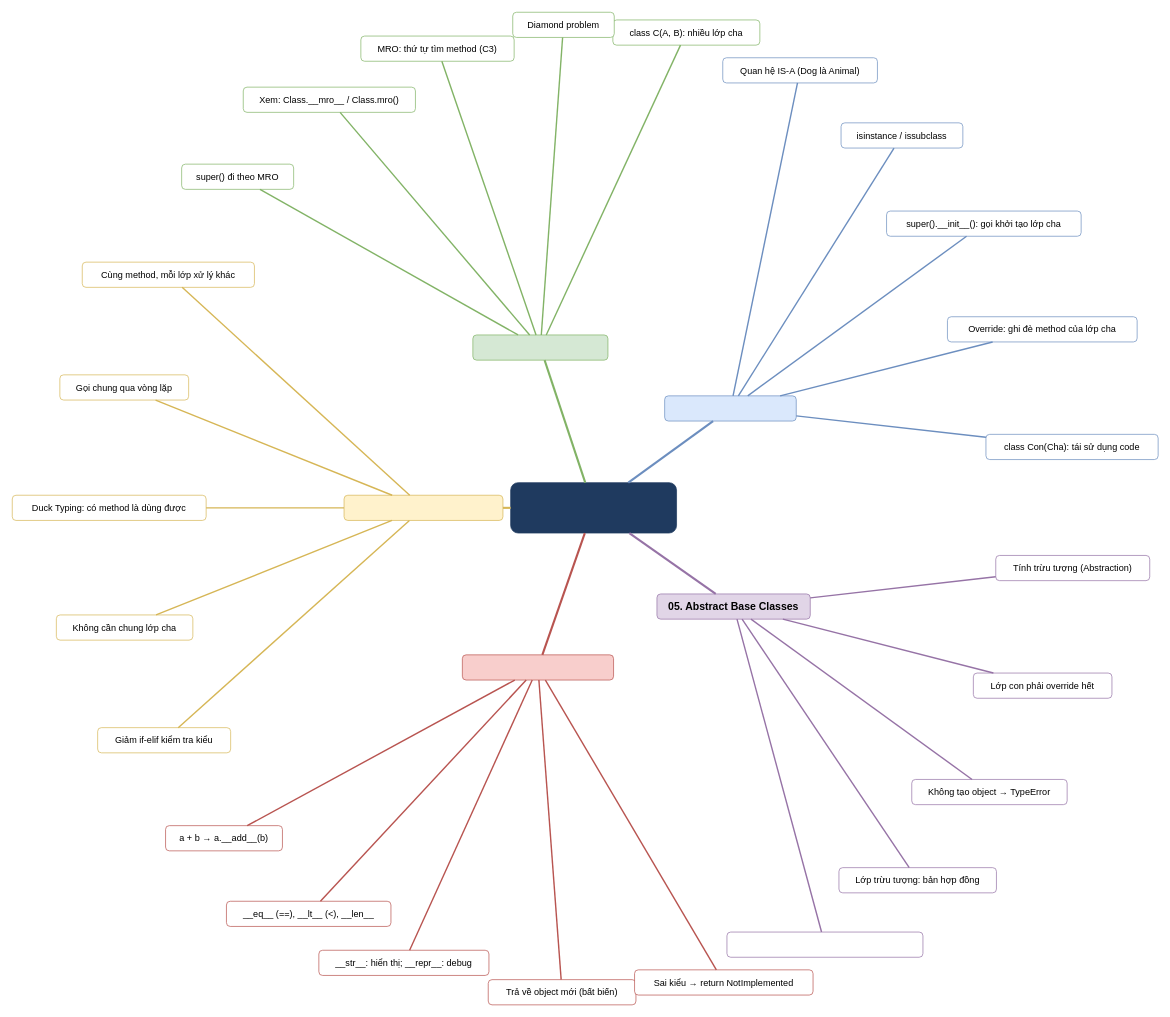
The diagram is 1170 pixels wide and 1017 high, and some of its shapes have lost their labels. Here are the shapes that lost their labels. From the top down, the box of each, then its label:
(472, 334, 608, 360): 02. Đa kế thừa & MRO
(664, 395, 796, 421): 01. Kế thừa & super()
(343, 495, 503, 520): 03. Đa hình & Duck Typing
(510, 482, 677, 533): Python Session 26 Các tính chất OOP
(462, 654, 614, 680): 04. Operator overloading
(726, 931, 923, 957): from abc import ABC, abstractmethod
